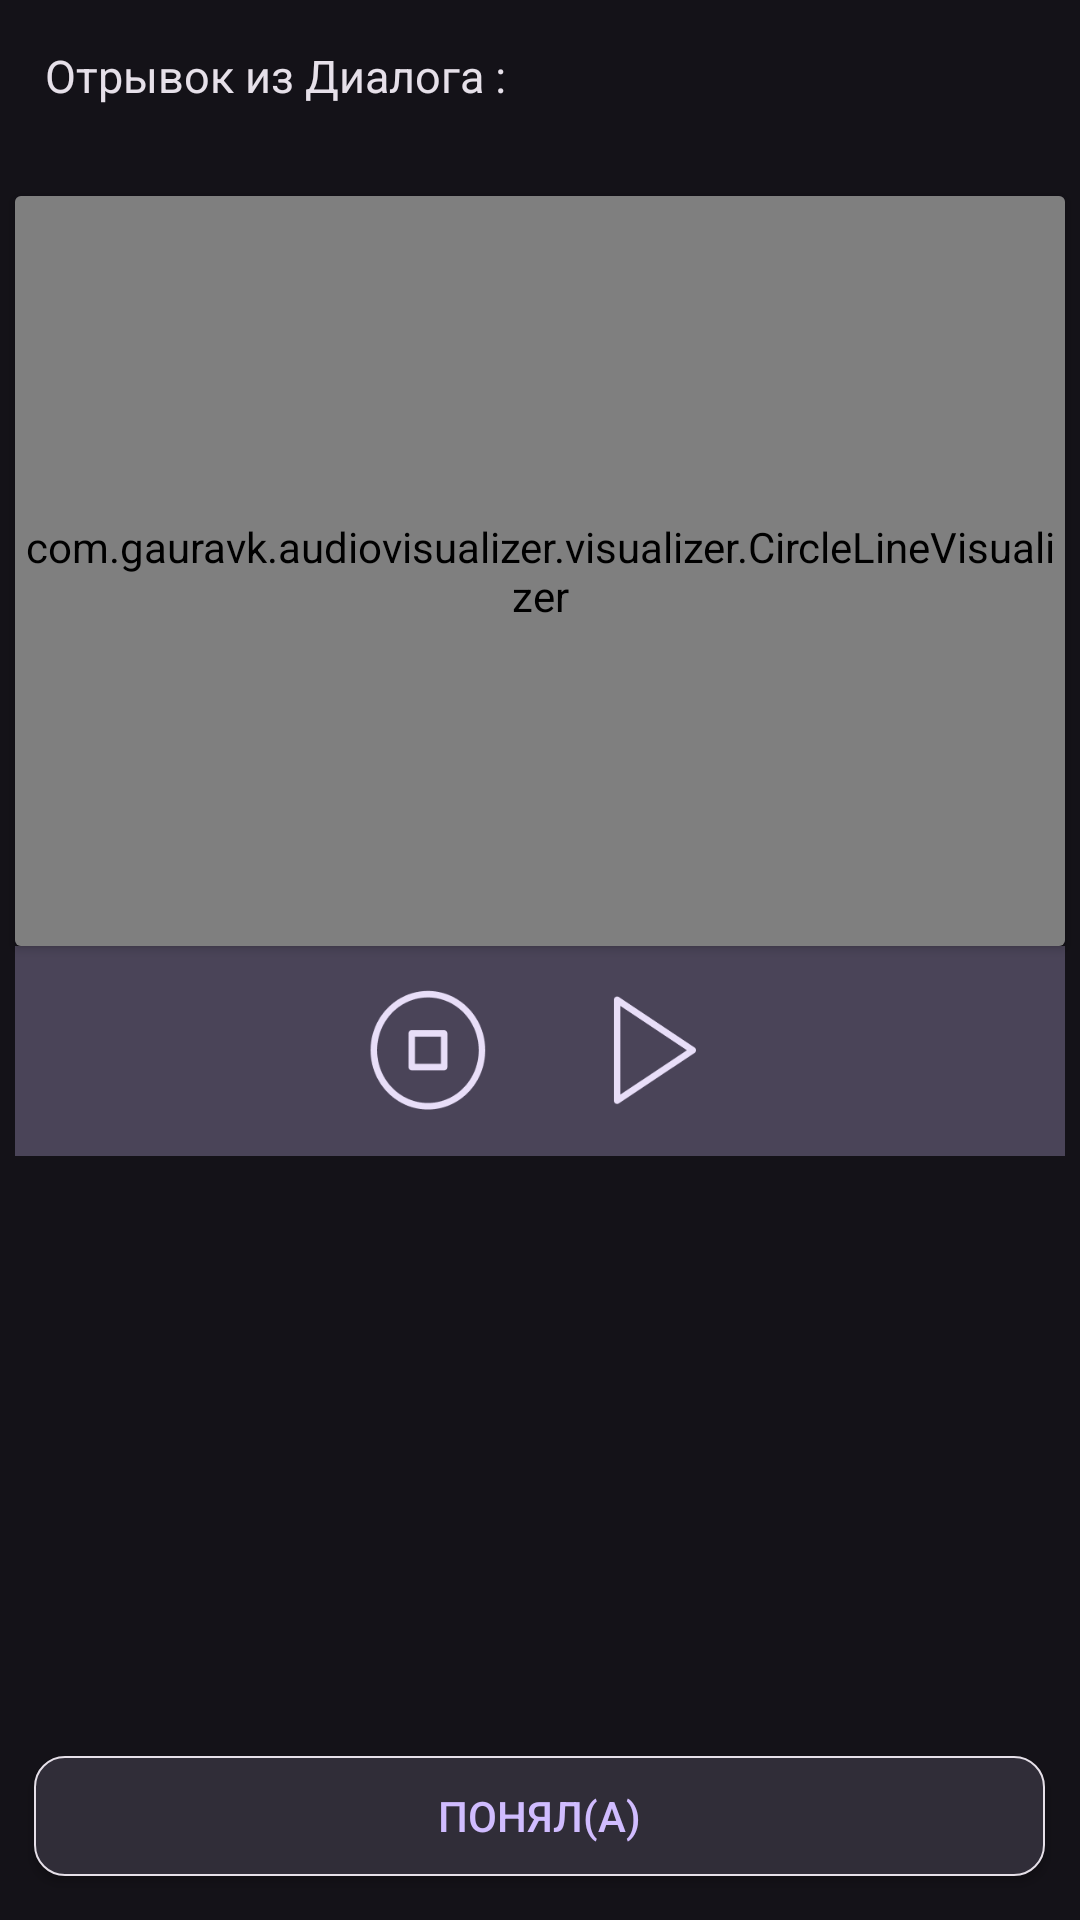

Icon bounding boxes for this 1080 × 1920 phone screenshot, format (x1, y1, x2, y2):
play: (614, 996, 696, 1104)
stop circle: (370, 990, 486, 1110)
